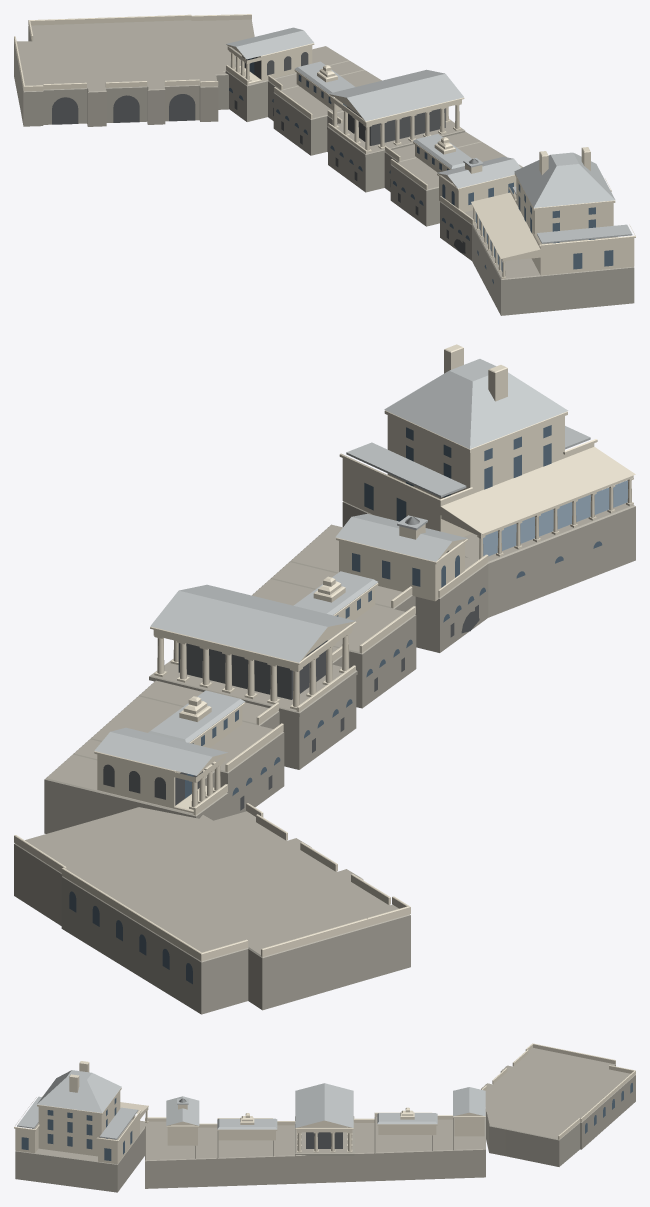
Rendered from phl-fairmount-water-works.glb.
The picture shows the model from 3 angles, top to bottom: view 1: azimuth 30°, elevation 25°; view 2: azimuth 150°, elevation 25°; view 3: azimuth 270°, elevation 25°; orthographic projection. The views are drawn at different scales.
Parts seen in each view (by area): view 1: Fairmount Water Works; view 2: Fairmount Water Works; view 3: Fairmount Water Works.
Part boxes in pixels (x1,y1,x2,y2): Fairmount Water Works: [14, 14, 635, 315]; Fairmount Water Works: [14, 344, 635, 1014]; Fairmount Water Works: [14, 1043, 635, 1192].
Size of the model in its own units: 63.01 by 24.6 by 139.
